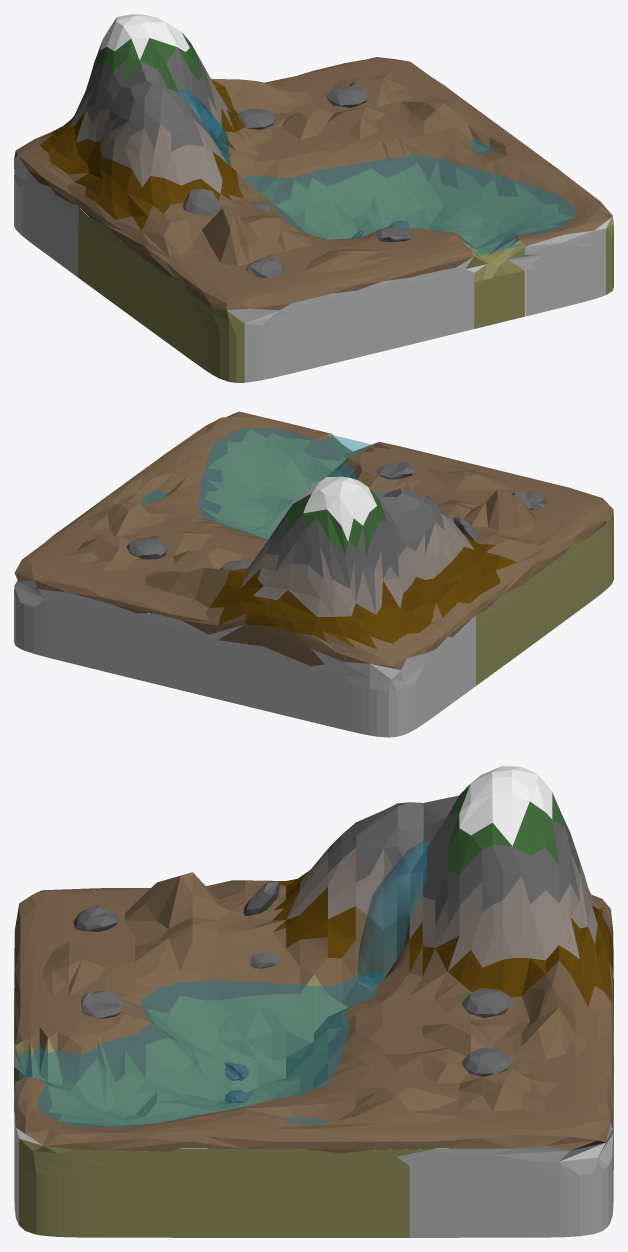
Rendered from low_poly_landscape_with_rocks-v1.glb.
The picture shows the model from 3 angles, top to bottom: view 1: azimuth 30°, elevation 25°; view 2: azimuth 150°, elevation 25°; view 3: azimuth 270°, elevation 25°; orthographic projection. The views are drawn at different scales.
Visible parts, largest first — view 1: pPlatonic19; view 2: pPlatonic19; view 3: pPlatonic19.
Part boxes in pixels (x1,y1,x2,y2): pPlatonic19: [14, 14, 613, 382]; pPlatonic19: [14, 411, 613, 737]; pPlatonic19: [14, 766, 613, 1237].
Size of the model in its own units: 104 by 52.62 by 104.
